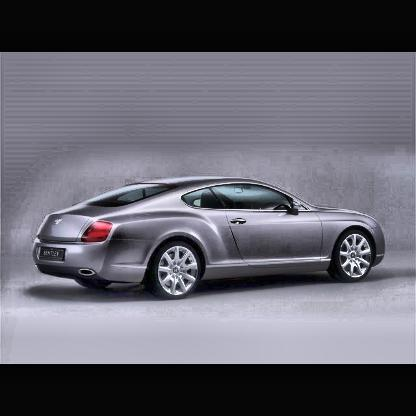Bentley Continental GT Coupe 2007: (34, 178, 386, 300)
